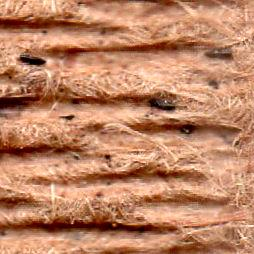egg: (205, 48, 232, 58), (150, 100, 175, 110), (18, 56, 45, 64)
